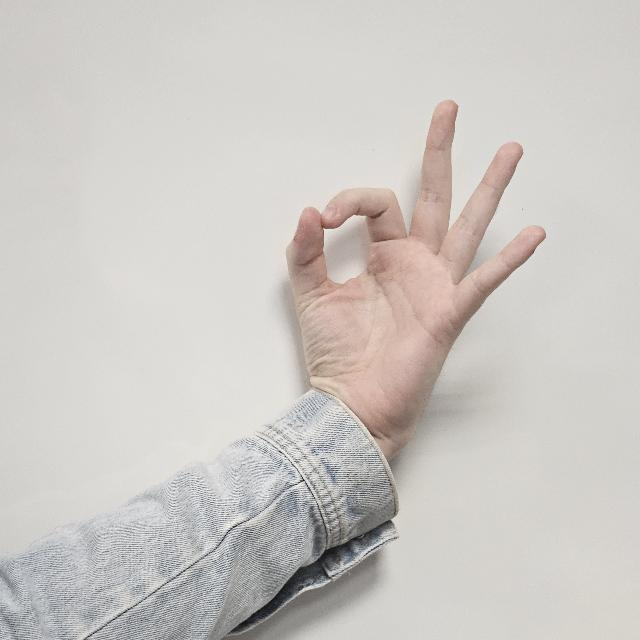Bolinha: (284, 93, 544, 457)
